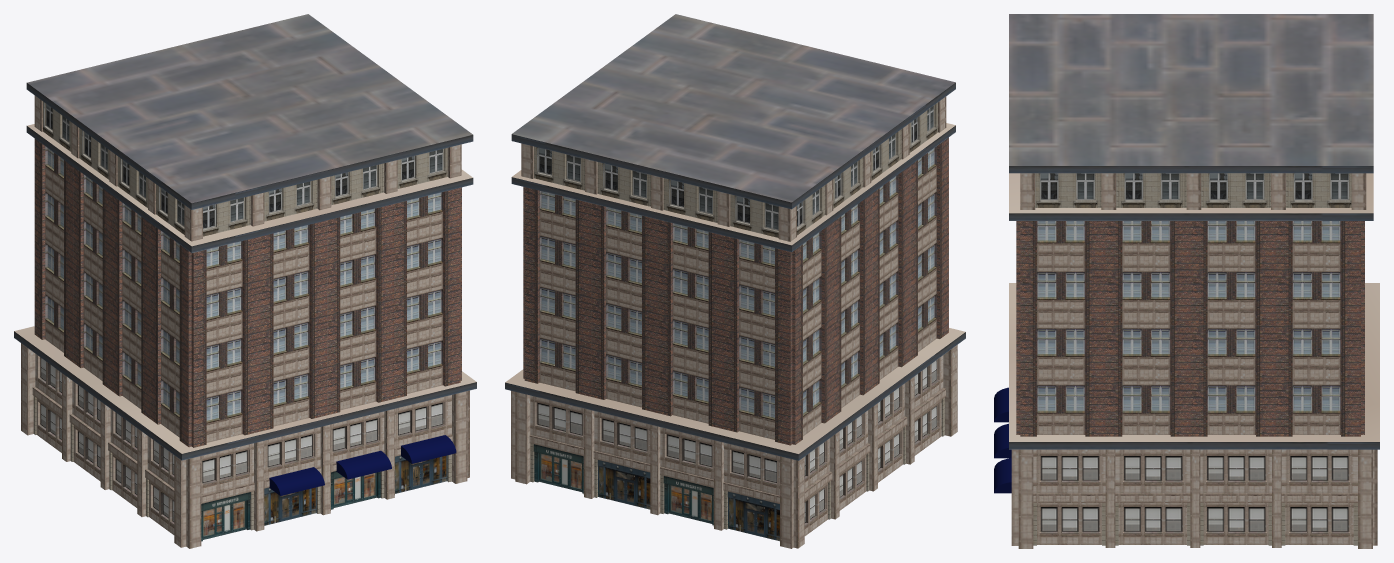
The model's file is house.gltf.
3 renders of one model, left to right at view 1: azimuth 30°, elevation 25°; view 2: azimuth 150°, elevation 25°; view 3: azimuth 270°, elevation 25°, orthographic. The views are drawn at different scales.
Visible parts, largest first — view 1: Plane.007_16, Plane.019_58, Plane.018_80, Plane.006_9, Plane_15, Plane.008_18, atlas.008_17, Plane.009_29, Plane.014_23, atlas.025_57, atlas.001_1, Plane.005_8 (+17 smaller); view 2: Plane.017_79, Plane.019_58, Plane.018_80, Plane.015_49, Plane_15, atlas.024_56, Plane.008_18, Plane.009_29, Plane.014_23, atlas.025_57, Plane.012_44, Plane.013_48 (+17 smaller); view 3: Plane.016_78, Plane.019_58, Plane.010_34, Plane.011_40, atlas.023_55, Plane_15, Plane.008_18, Cube.005_35, Cube.009_39, atlas.012_33, atlas.010_31, Cube.007_37 (+16 smaller).
Boxes of the visible parts, x1=… form: Plane.007_16: x1=191, y1=188, x2=460, y2=447; Plane.019_58: x1=26, y1=14, x2=473, y2=209; Plane.018_80: x1=34, y1=138, x2=191, y2=447; Plane.006_9: x1=201, y1=395, x2=451, y2=495; Plane_15: x1=14, y1=326, x2=476, y2=460; Plane.008_18: x1=26, y1=124, x2=473, y2=252; atlas.008_17: x1=203, y1=148, x2=447, y2=236; Plane.009_29: x1=36, y1=398, x2=174, y2=534; Plane.014_23: x1=35, y1=354, x2=174, y2=487; atlas.025_57: x1=43, y1=101, x2=184, y2=234; atlas.001_1: x1=201, y1=492, x2=250, y2=541; Plane.005_8: x1=395, y1=455, x2=447, y2=493; Plane.017_79: x1=524, y1=187, x2=792, y2=445; Plane.019_58: x1=511, y1=14, x2=955, y2=209; Plane.018_80: x1=792, y1=137, x2=948, y2=444; Plane.015_49: x1=530, y1=395, x2=779, y2=495; Plane_15: x1=505, y1=328, x2=965, y2=460; atlas.024_56: x1=534, y1=146, x2=778, y2=237; Plane.008_18: x1=511, y1=123, x2=955, y2=252; Plane.009_29: x1=804, y1=400, x2=941, y2=535; Plane.014_23: x1=804, y1=355, x2=943, y2=489; atlas.025_57: x1=797, y1=103, x2=937, y2=235; Plane.012_44: x1=597, y1=460, x2=650, y2=509; Plane.013_48: x1=727, y1=491, x2=779, y2=541; Plane.016_78: x1=1020, y1=221, x2=1360, y2=436; Plane.019_58: x1=1009, y1=14, x2=1373, y2=173; Plane.010_34: x1=1033, y1=449, x2=1357, y2=493; Plane.011_40: x1=1037, y1=503, x2=1353, y2=544; atlas.023_55: x1=1035, y1=173, x2=1351, y2=207; Plane_15: x1=1009, y1=283, x2=1379, y2=449; Plane.008_18: x1=1009, y1=173, x2=1373, y2=220; Cube.005_35: x1=1018, y1=449, x2=1033, y2=548; Cube.009_39: x1=1358, y1=449, x2=1372, y2=548; atlas.012_33: x1=1281, y1=493, x2=1357, y2=545; atlas.010_31: x1=1115, y1=493, x2=1190, y2=545; Cube.007_37: x1=1190, y1=449, x2=1200, y2=547.
Size of the model in its own units: 2.52 by 2.83 by 2.58.
Materials: 1 (1 with a texture image).
